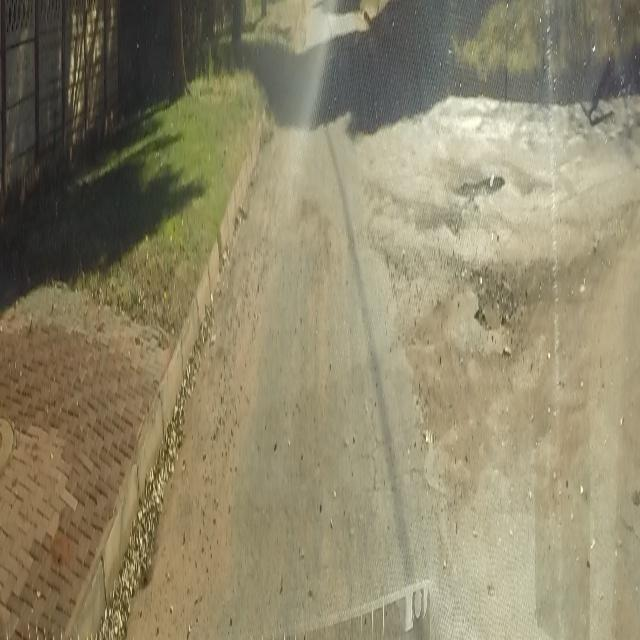pothole: (466, 247, 521, 343), (450, 162, 506, 207)
